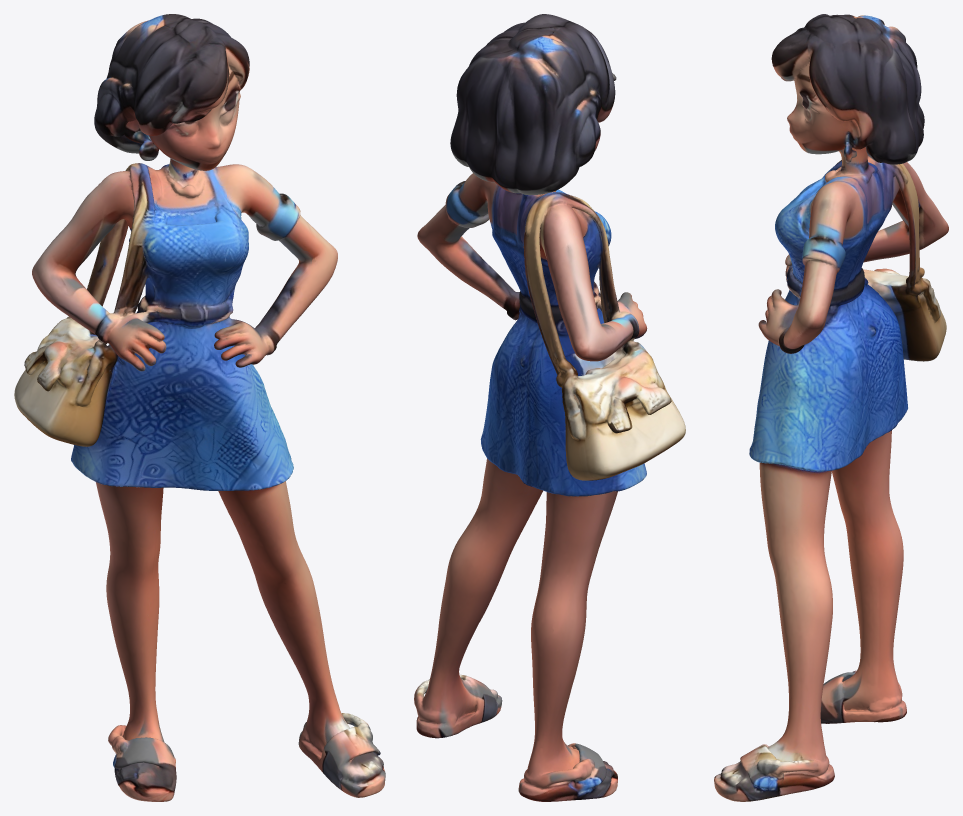
Rendered from citizen-woman.glb.
3 views of the same model, side by side, from view 1: azimuth 30°, elevation 25°; view 2: azimuth 150°, elevation 25°; view 3: azimuth 270°, elevation 25° (orthographic). The views are drawn at different scales.
Parts seen in each view (by area): view 1: tripo_node_2f8a2a1c-0fd5-47e0-bd6e-fc0fe963bfa7; view 2: tripo_node_2f8a2a1c-0fd5-47e0-bd6e-fc0fe963bfa7; view 3: tripo_node_2f8a2a1c-0fd5-47e0-bd6e-fc0fe963bfa7.
Part boxes in pixels (x1,y1,x2,y2): tripo_node_2f8a2a1c-0fd5-47e0-bd6e-fc0fe963bfa7: (14, 14, 385, 801); tripo_node_2f8a2a1c-0fd5-47e0-bd6e-fc0fe963bfa7: (414, 14, 685, 801); tripo_node_2f8a2a1c-0fd5-47e0-bd6e-fc0fe963bfa7: (714, 14, 948, 801).
Bounding box in the file's own units: 0.4042 × 1 × 0.2965.
Materials: 1 (1 with a texture image).
